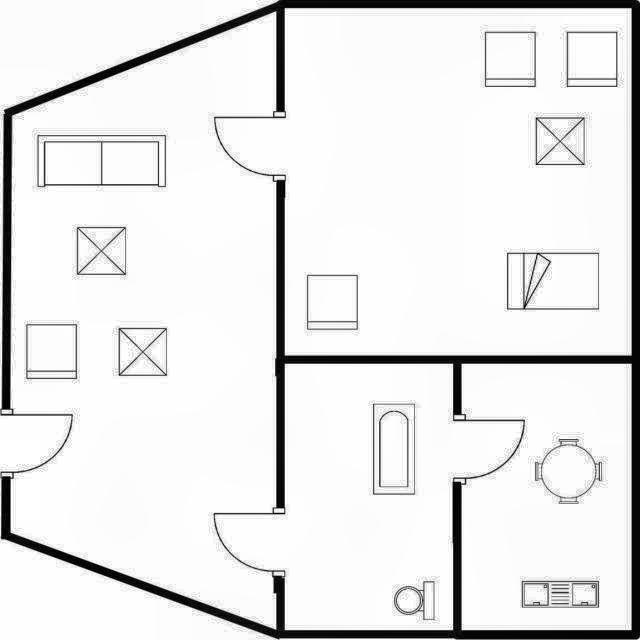room: (11, 11, 276, 630), (285, 8, 632, 356), (461, 364, 632, 630), (285, 364, 453, 630)
